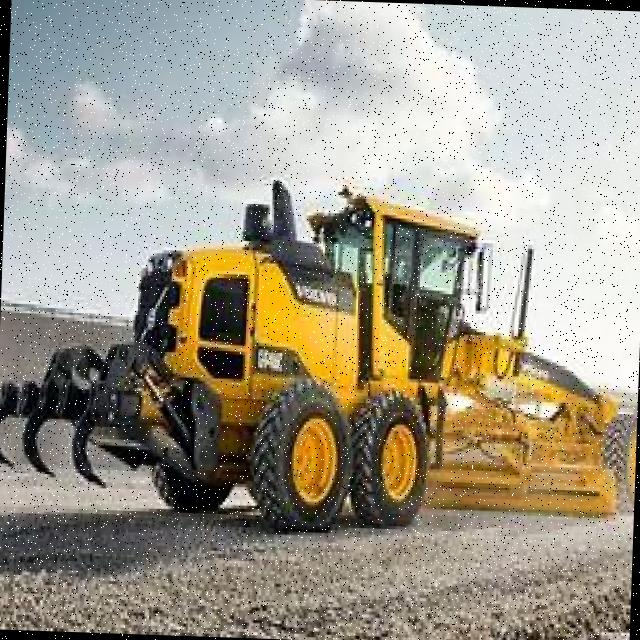Grader: (0, 155, 640, 543)
